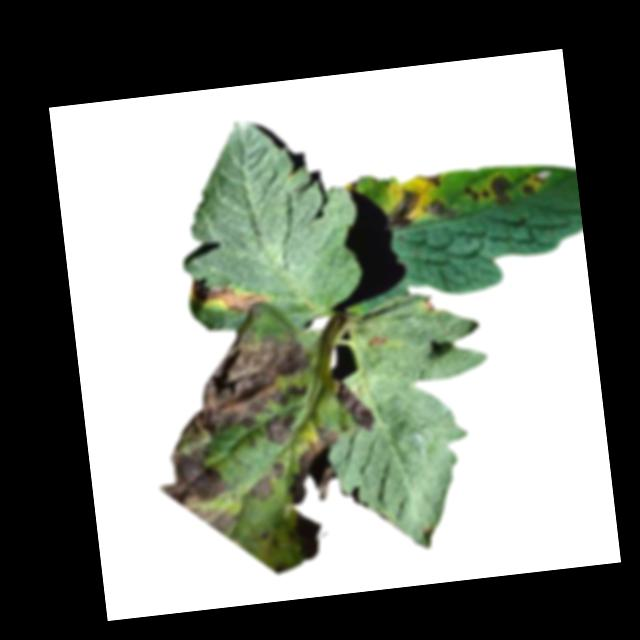Early_blight: (141, 319, 326, 540), (282, 426, 351, 510), (188, 267, 273, 318), (336, 375, 377, 434), (291, 508, 326, 561), (246, 458, 287, 503), (385, 188, 425, 232), (263, 414, 299, 450), (520, 165, 551, 198), (490, 171, 514, 205), (428, 196, 458, 220), (463, 182, 491, 201), (420, 168, 443, 188), (364, 333, 390, 350), (422, 291, 438, 315)
